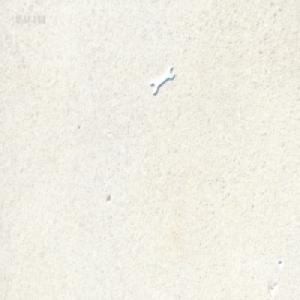Wrench: (151, 66, 174, 96)
